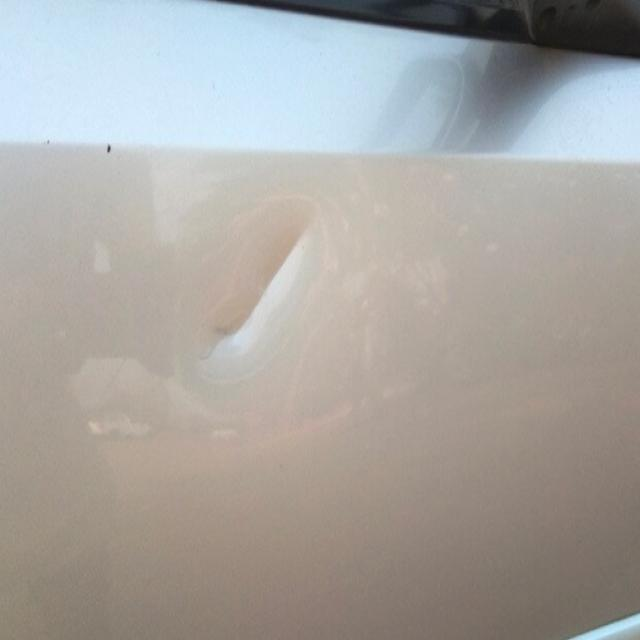dents: (209, 182, 329, 374)
